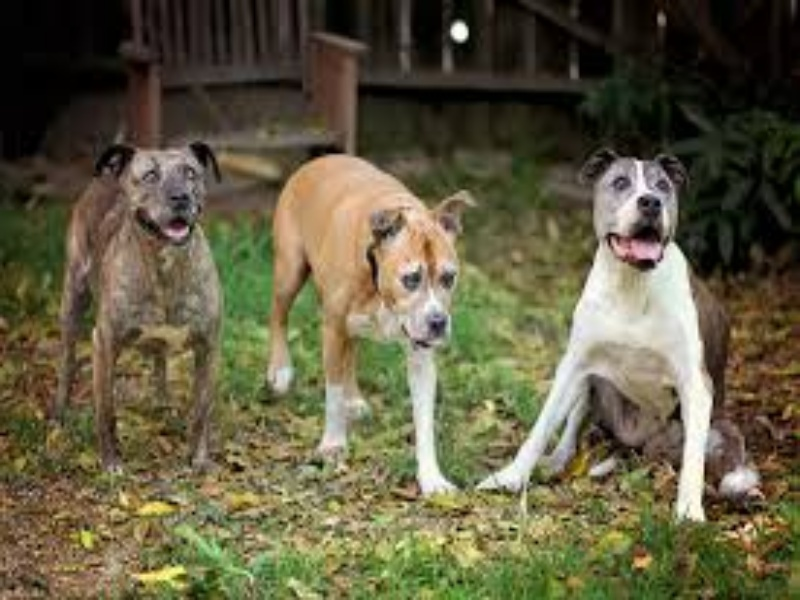dog: (509, 152, 755, 529), (254, 145, 467, 504), (54, 137, 230, 485)
